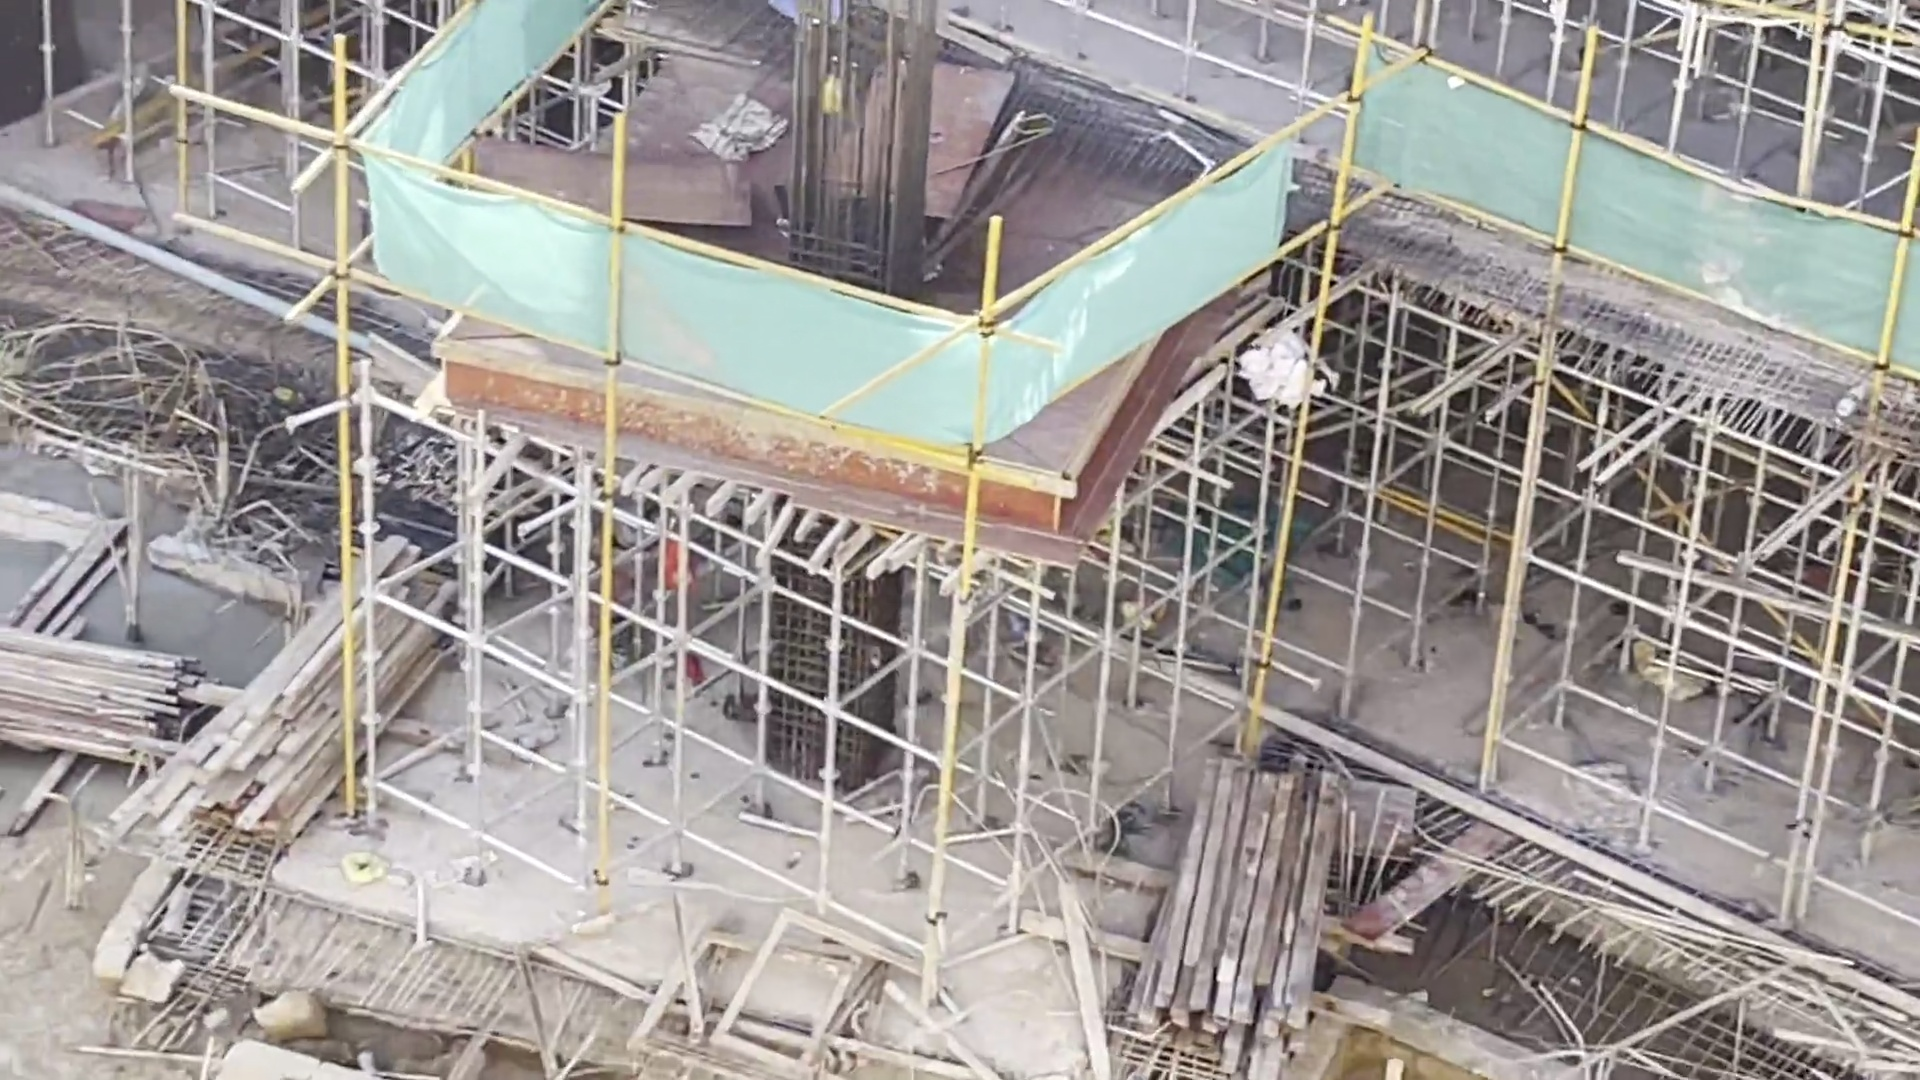wood: (156, 554, 411, 845), (1162, 735, 1346, 1060)
